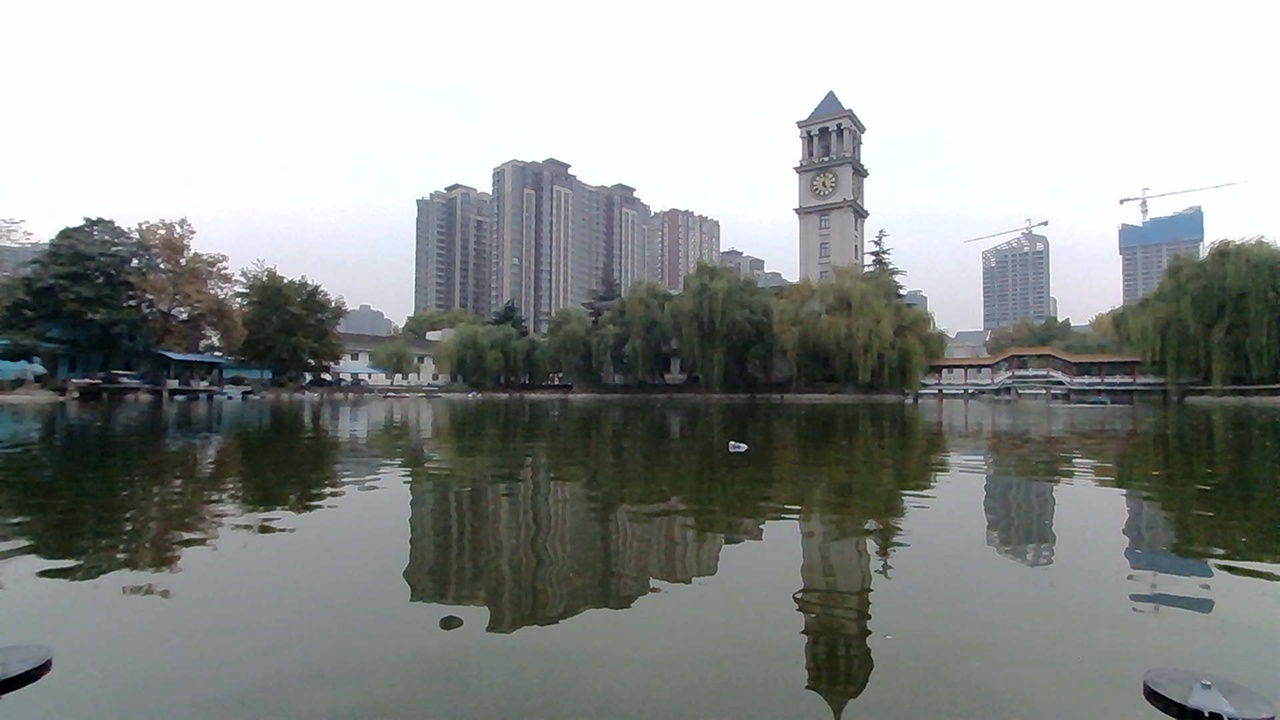bottle: (719, 429, 758, 459)
